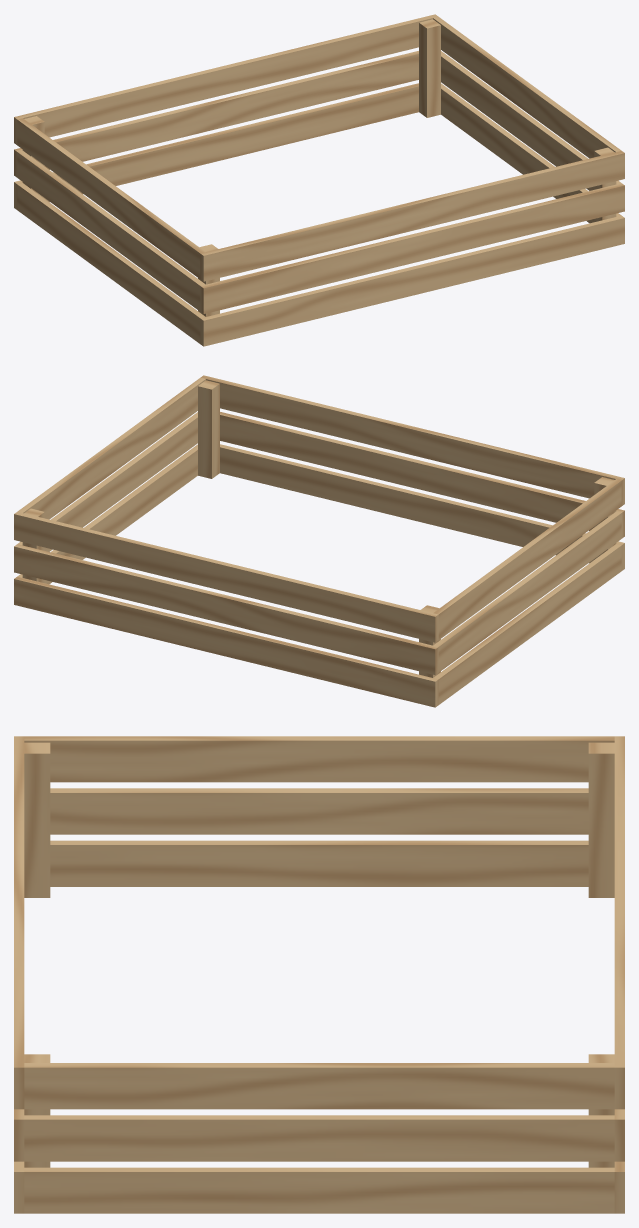
The model's file is Prop_FruitCrateL_Empty.fbx.
3 views of the same model, one above another, from view 1: azimuth 30°, elevation 25°; view 2: azimuth 150°, elevation 25°; view 3: azimuth 270°, elevation 25° (orthographic). The views are drawn at different scales.
Parts seen in each view (by area): view 1: Prop_FruitCrateL_Empty; view 2: Prop_FruitCrateL_Empty; view 3: Prop_FruitCrateL_Empty.
Boxes of the visible parts, left/top/right/bottom form: Prop_FruitCrateL_Empty: left=14, top=14, right=624, bottom=346; Prop_FruitCrateL_Empty: left=14, top=375, right=624, bottom=707; Prop_FruitCrateL_Empty: left=14, top=736, right=624, bottom=1213.
Bounding box in the file's own units: 1.36 × 0.28 × 1.06.
1 material, 1 textured.
